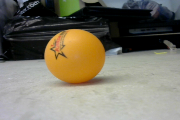PingPongBall: (44, 29, 105, 83)
